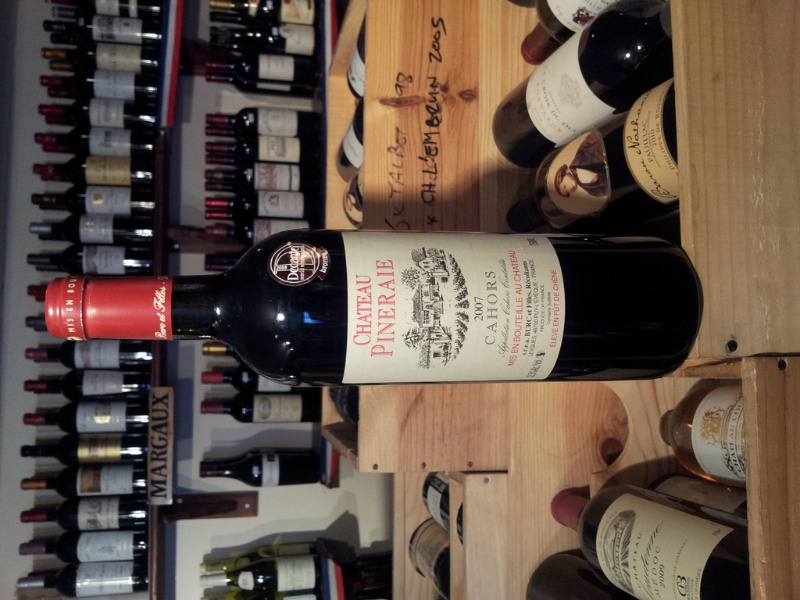wine: (17, 5, 766, 600), (31, 222, 713, 393)
